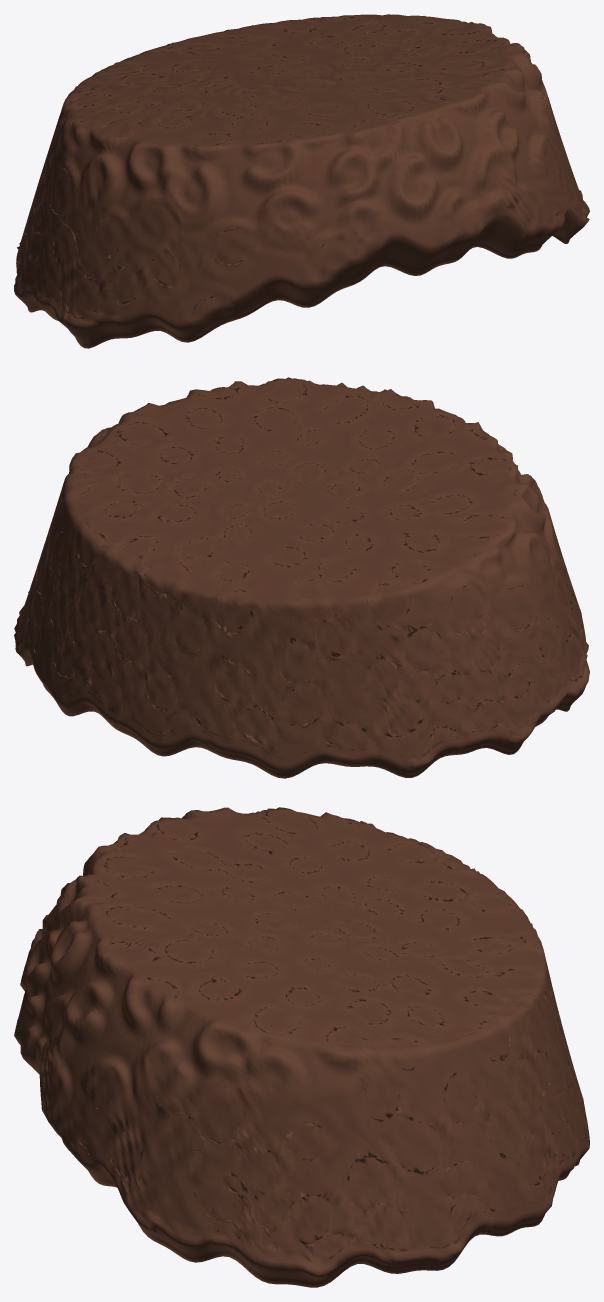
File: Masculine-afro-bucket251-hair.glb
The picture shows the model from 3 angles, top to bottom: view 1: azimuth 30°, elevation 25°; view 2: azimuth 150°, elevation 25°; view 3: azimuth 270°, elevation 25°; orthographic projection. The views are drawn at different scales.
Visible parts, largest first — view 1: 226 hair / Hair / sculpted afro251.001; view 2: 226 hair / Hair / sculpted afro251.001; view 3: 226 hair / Hair / sculpted afro251.001.
Boxes of the visible parts, bbox=[...] form: 226 hair / Hair / sculpted afro251.001: bbox=[14, 14, 589, 348]; 226 hair / Hair / sculpted afro251.001: bbox=[14, 377, 589, 778]; 226 hair / Hair / sculpted afro251.001: bbox=[14, 807, 589, 1287].
Size of the model in its own units: 0.9878 by 0.3891 by 0.8005.
